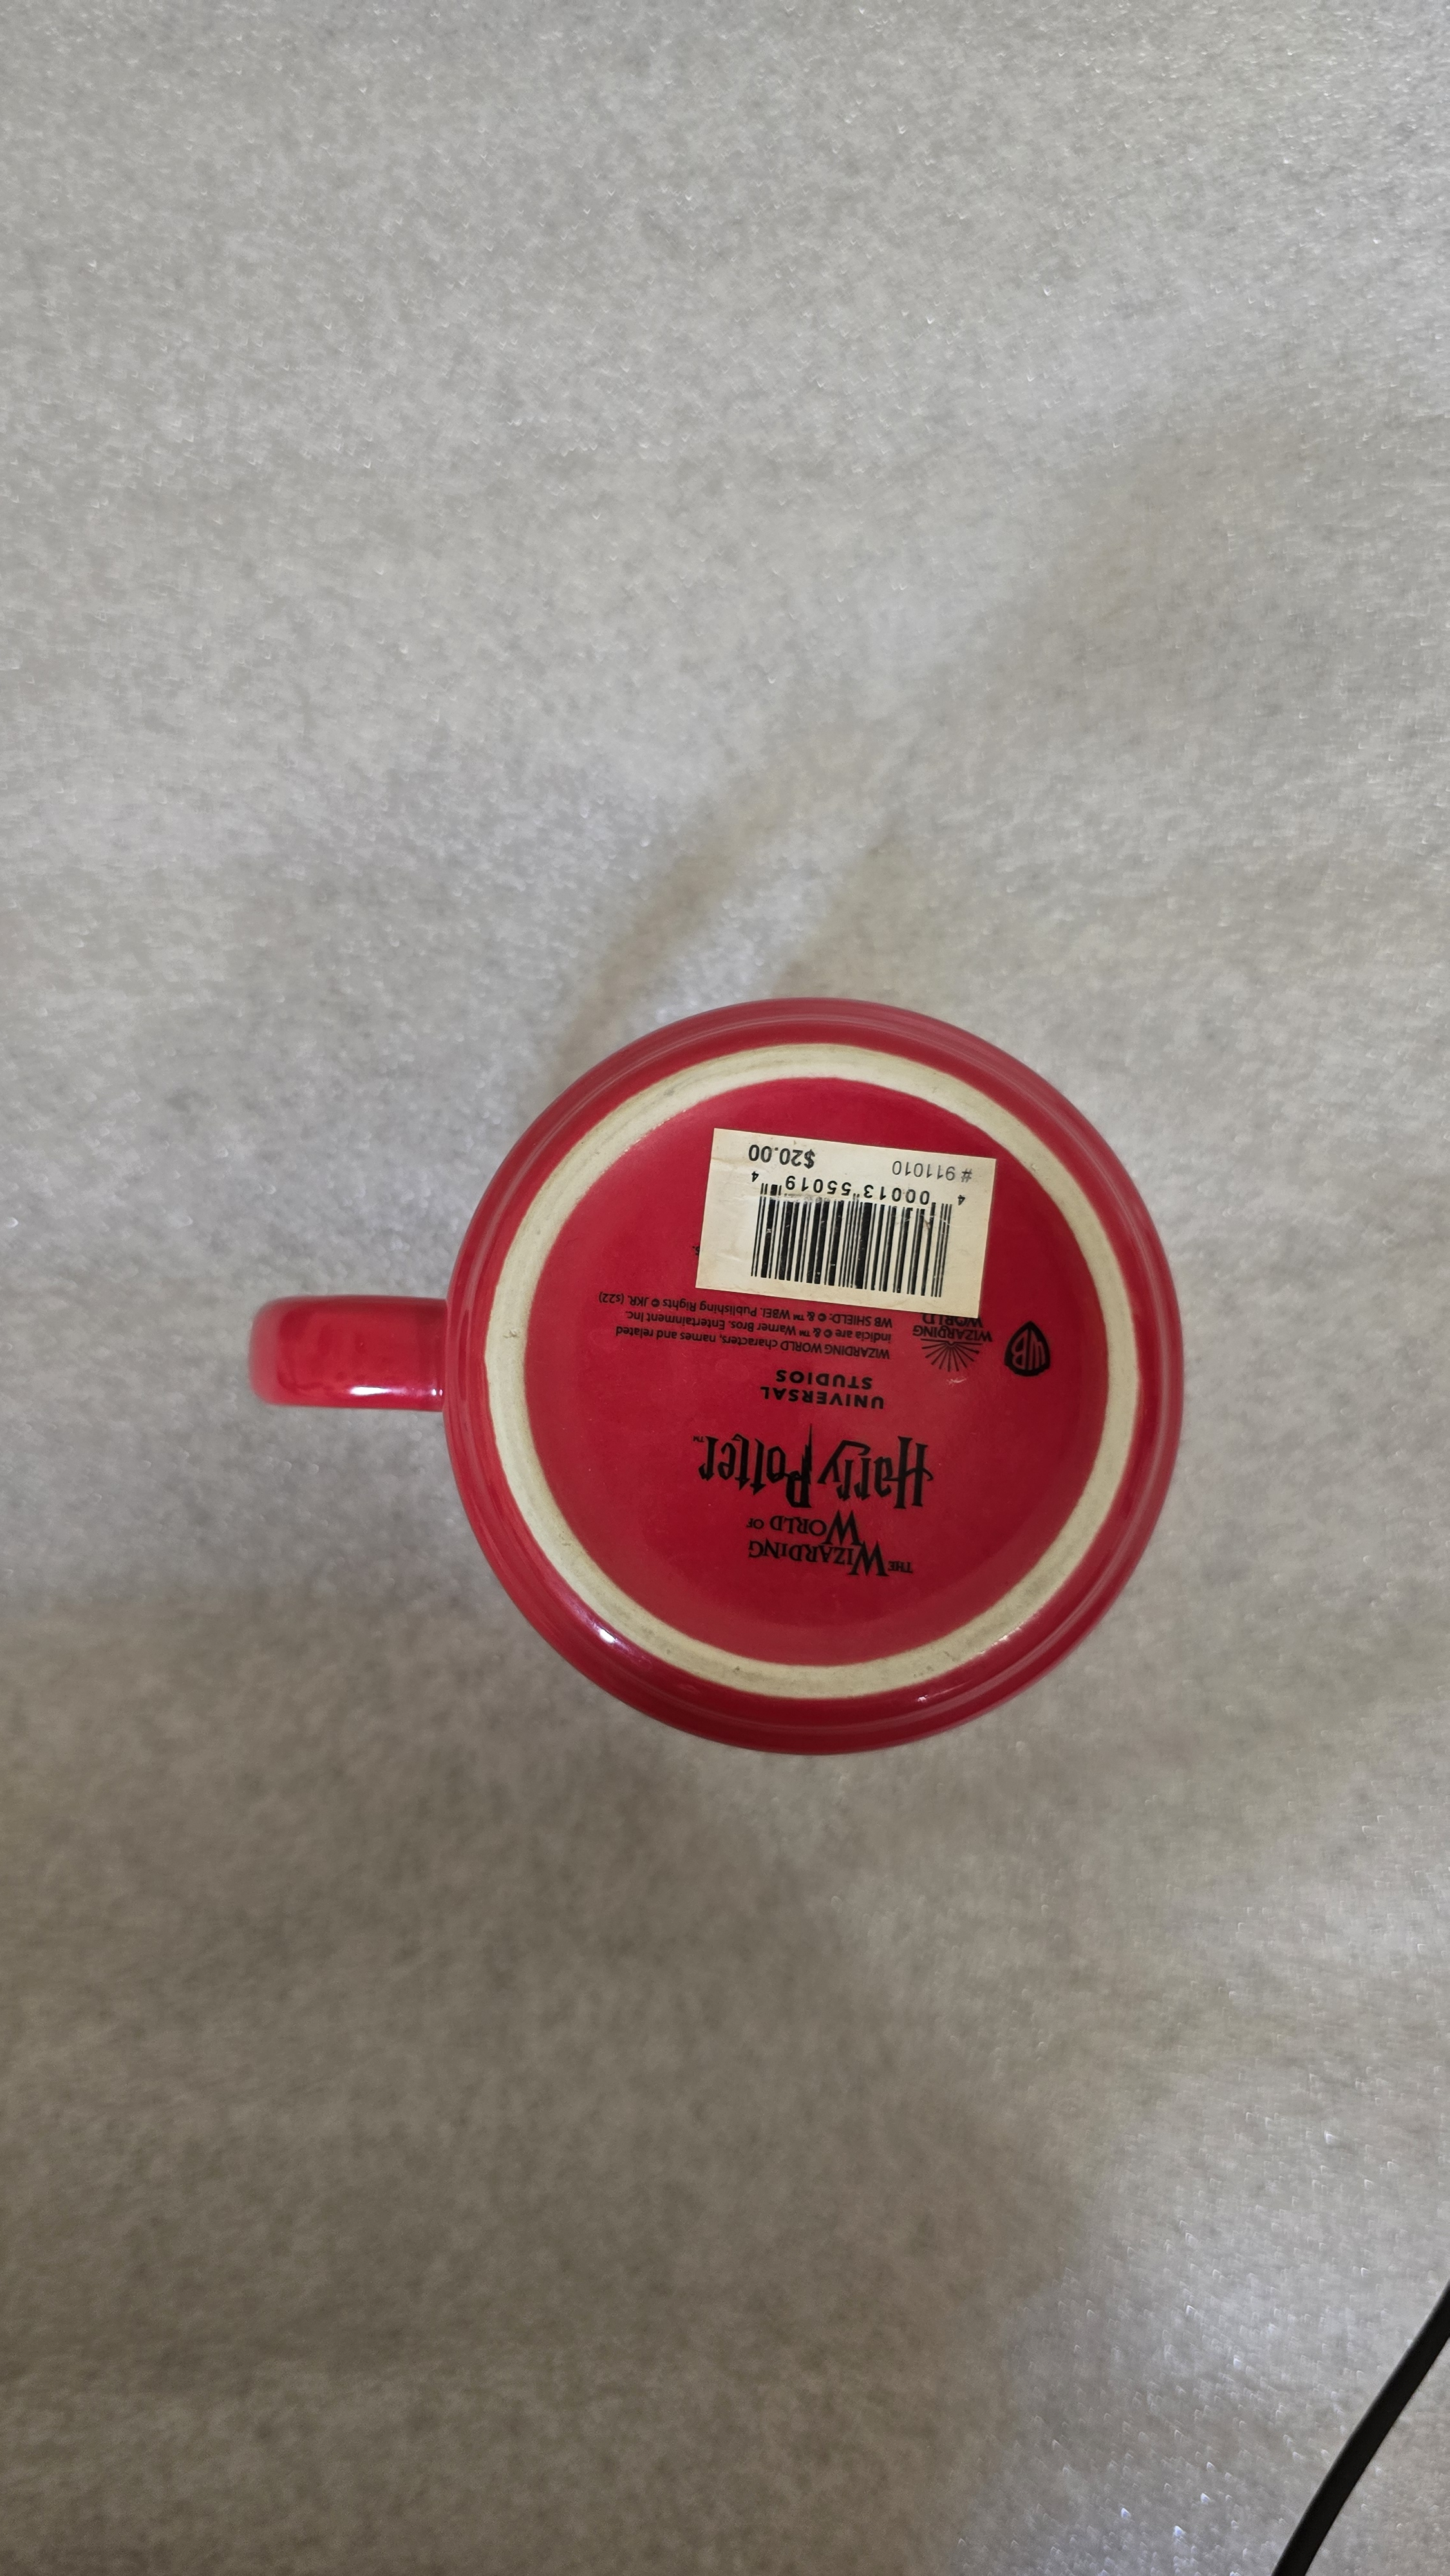mug: (242, 973, 1222, 1782)
